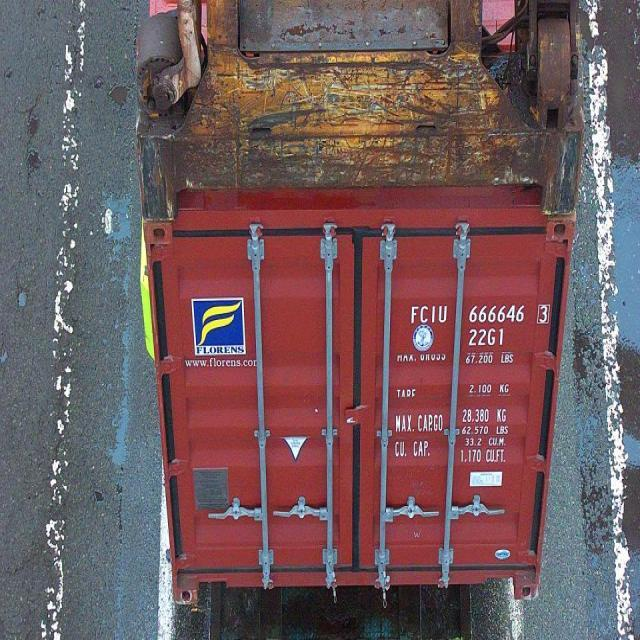ISO: (470, 328, 508, 346)
container_number: (414, 300, 552, 325)
